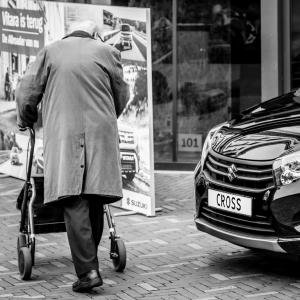Vehicle-registration-plate: (209, 188, 255, 216)
